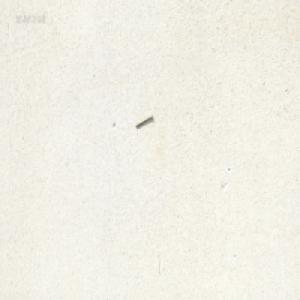Bolt: (134, 113, 152, 128)
